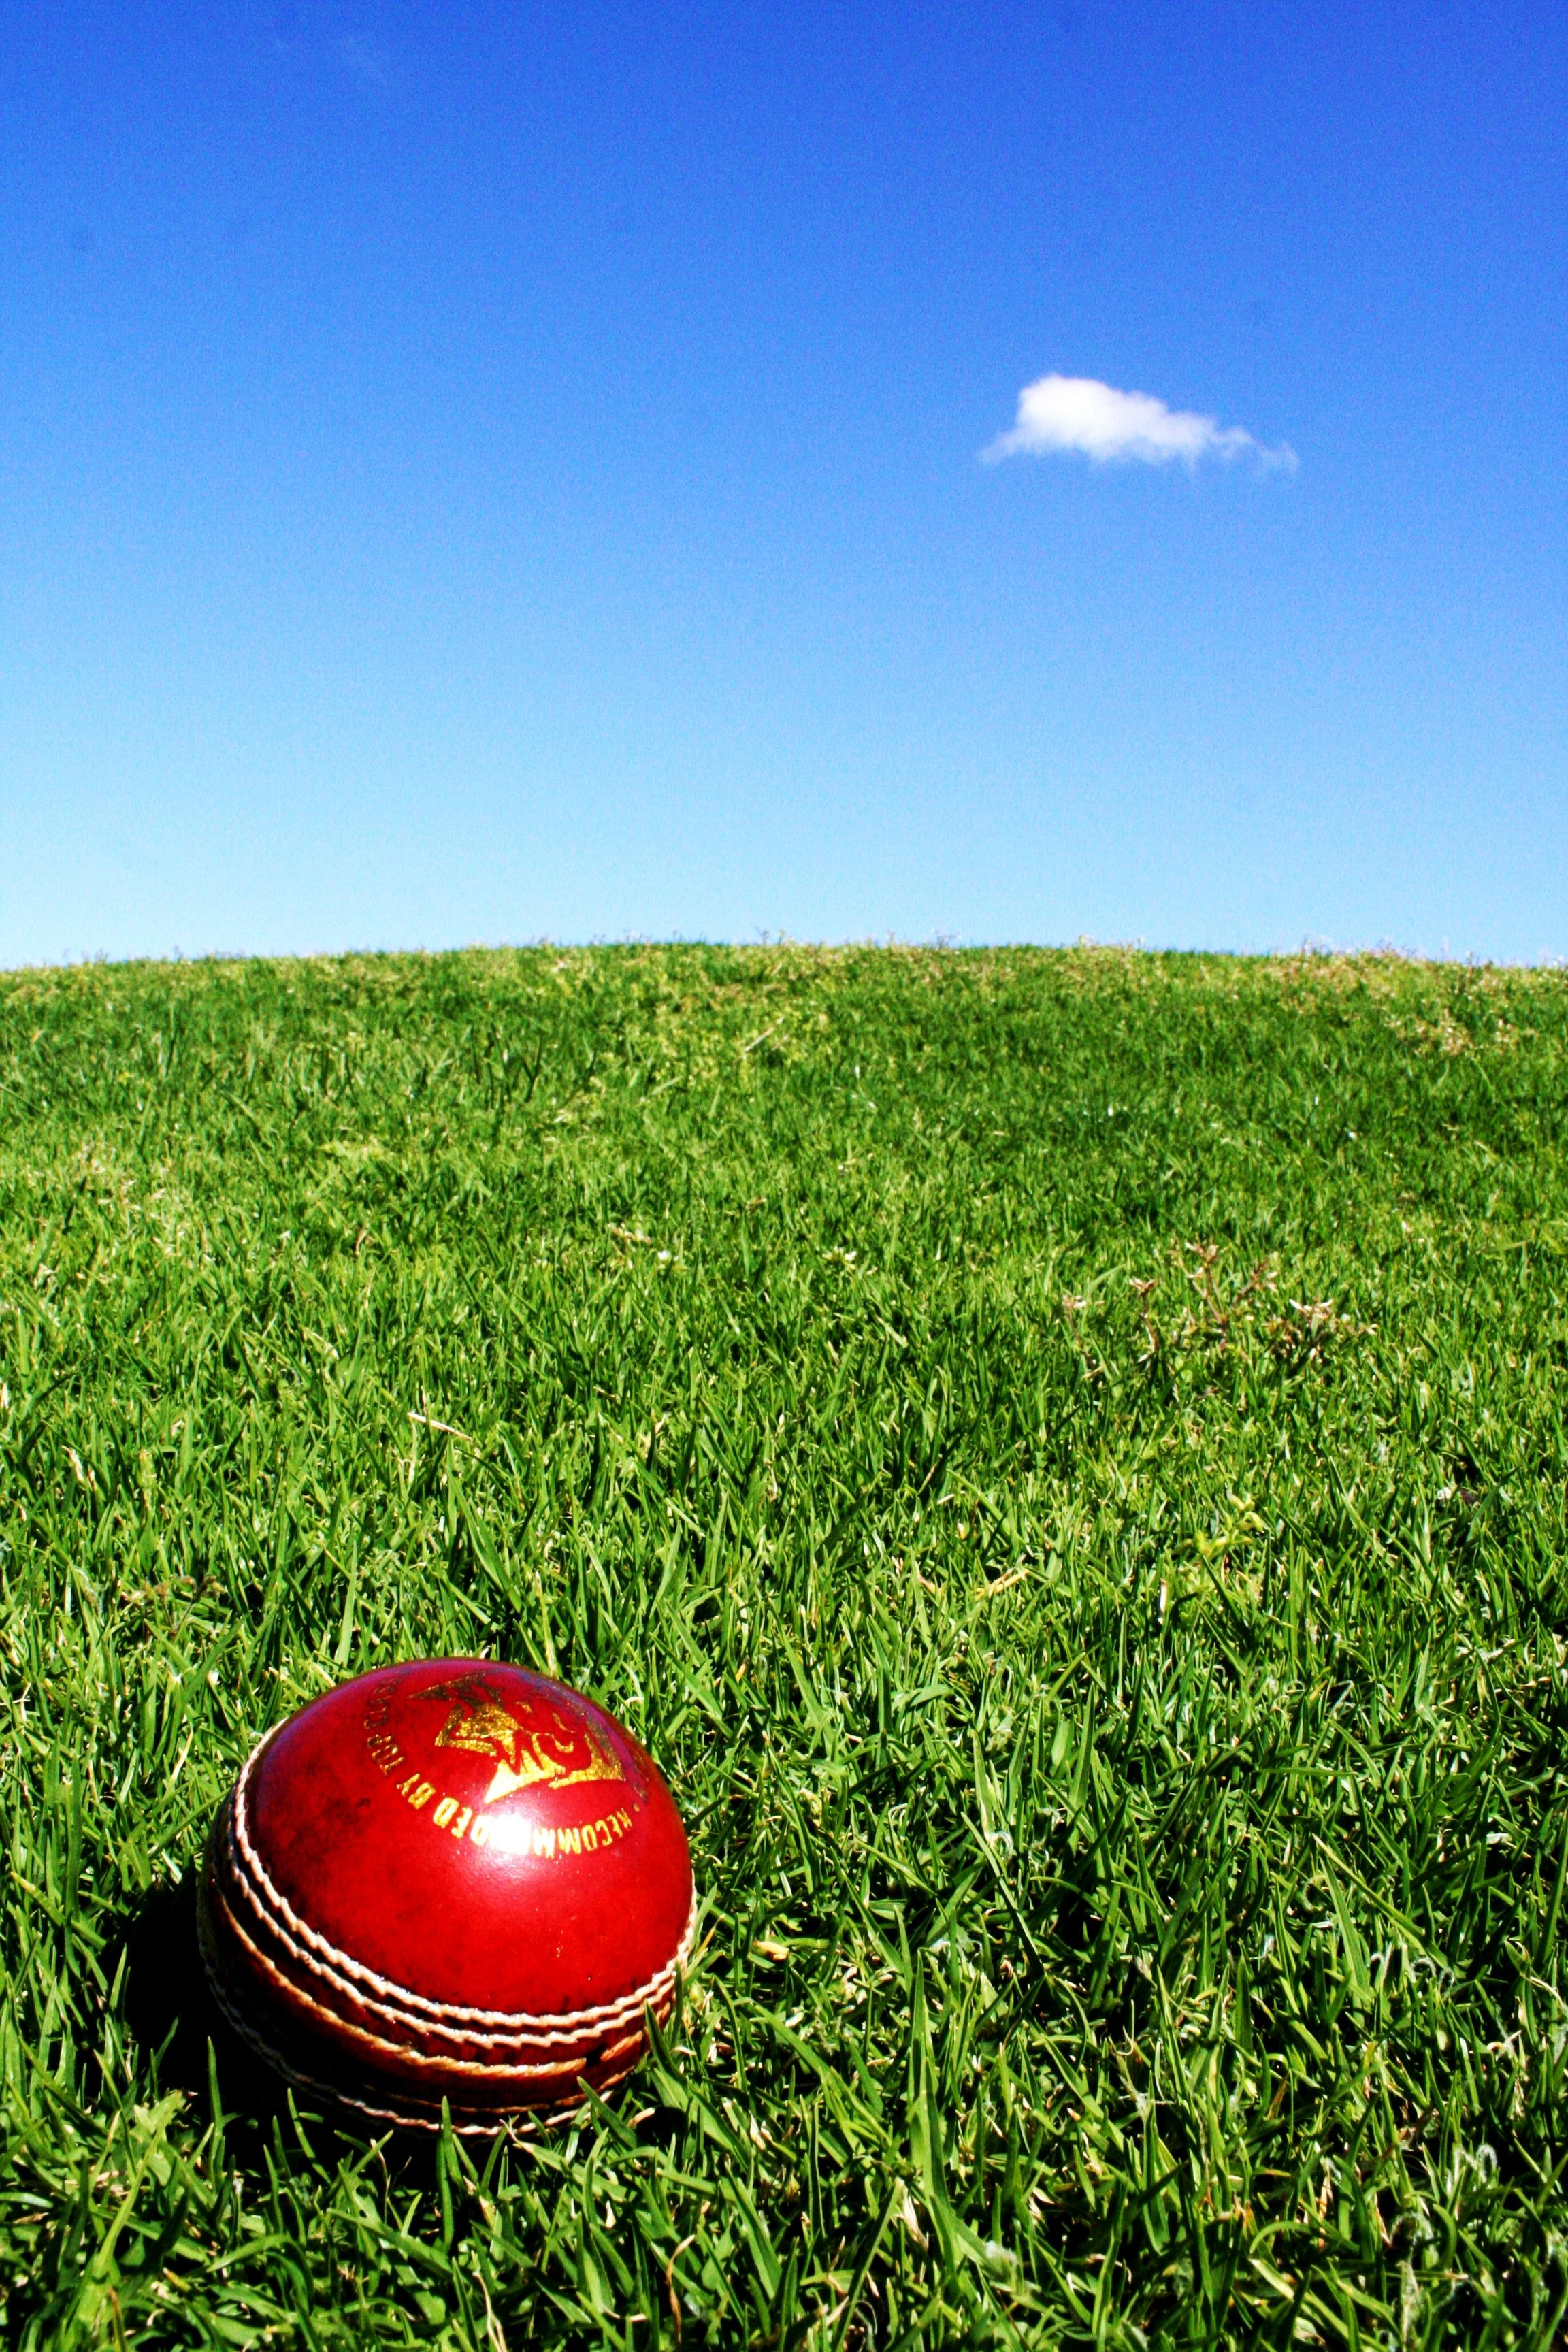Red_Ball: (154, 1610, 704, 2121)
